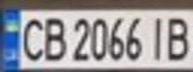0: (90, 14, 109, 62)
2: (66, 14, 93, 63)
6: (124, 12, 148, 62), (106, 14, 127, 62)
B: (160, 12, 193, 62), (39, 14, 69, 62)
C: (15, 14, 48, 63)
I: (145, 12, 169, 61)
